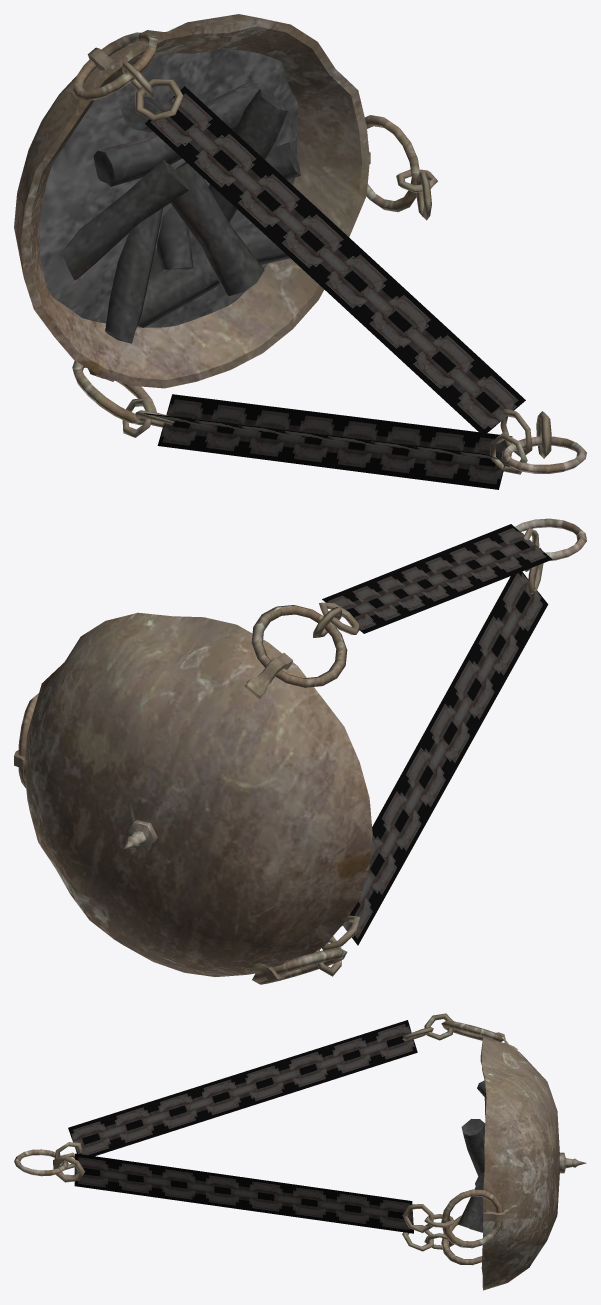
File: VIK_PRO_Brasero_Suspended_Medium_01A_LOD0-transformed.glb
The picture shows the model from 3 angles, top to bottom: view 1: azimuth 30°, elevation 25°; view 2: azimuth 150°, elevation 25°; view 3: azimuth 270°, elevation 25°; orthographic projection. The views are drawn at different scales.
Parts seen in each view (by area): view 1: VIK_PRO_Brasero_Suspended_Medium_01A_LOD0; view 2: VIK_PRO_Brasero_Suspended_Medium_01A_LOD0; view 3: VIK_PRO_Brasero_Suspended_Medium_01A_LOD0.
Part boxes in pixels (x1,y1,x2,y2): VIK_PRO_Brasero_Suspended_Medium_01A_LOD0: (14,14,586,489); VIK_PRO_Brasero_Suspended_Medium_01A_LOD0: (14,518,586,984); VIK_PRO_Brasero_Suspended_Medium_01A_LOD0: (14,1013,586,1290).
Bounding box in the file's own units: 0.00711 × 0.0068 × 0.0147.
Materials: 3 (3 with a texture image).
